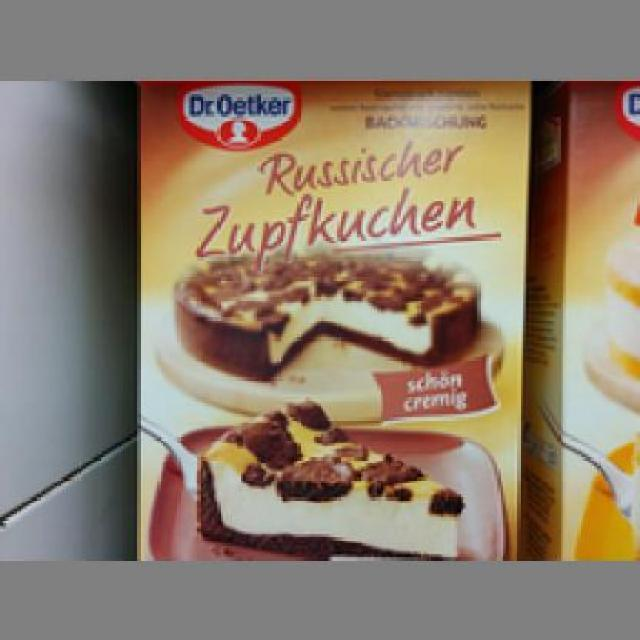Cake: (133, 74, 530, 557)
